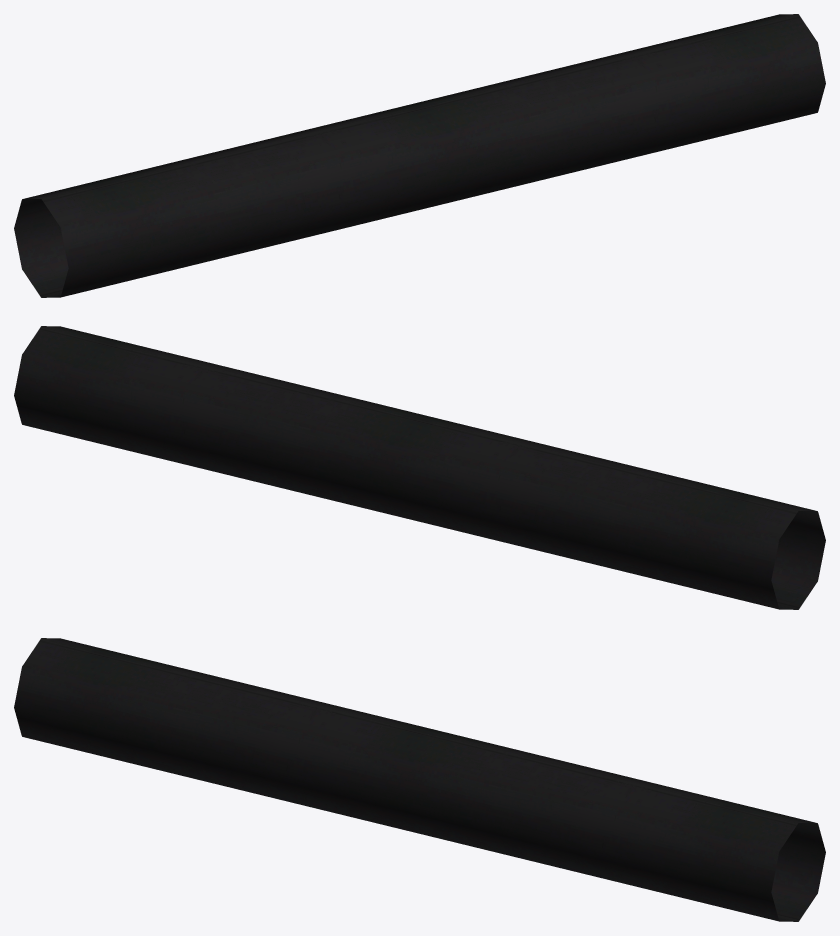
Rendered from com_pipe_4x64_metal_clean_lod1.glb.
3 renders of one model, top to bottom at view 1: azimuth 30°, elevation 25°; view 2: azimuth 150°, elevation 25°; view 3: azimuth 330°, elevation 25°, orthographic.
Parts seen in each view (by area): view 1: surf0; view 2: surf0; view 3: surf0.
Part boxes in pixels (x1,y1,x2,y2): surf0: (14,14,825,297); surf0: (14,326,825,609); surf0: (14,638,825,921).
Size of the model in its own units: 64 by 8 by 8.
